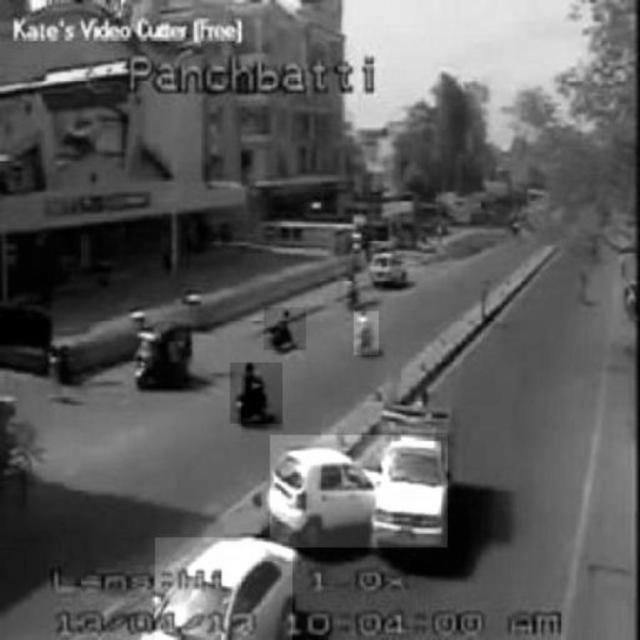accident: (270, 435, 447, 548)
vehicle: (154, 537, 293, 640), (230, 363, 282, 424), (264, 307, 306, 351), (354, 311, 379, 355)
